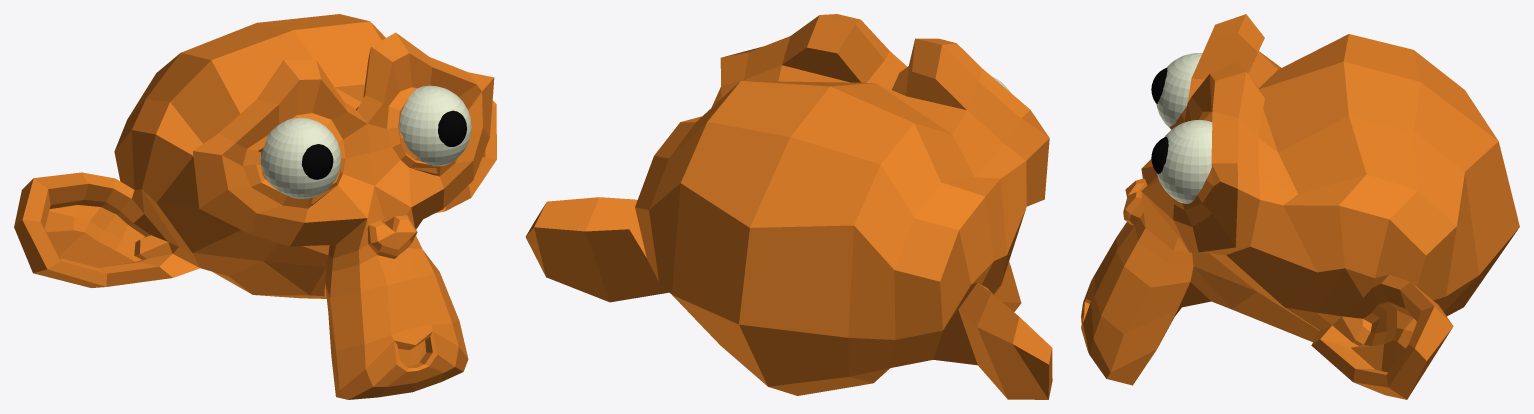
The model's file is suzanne_v01.glb.
3 renders of one model, left to right at view 1: azimuth 30°, elevation 25°; view 2: azimuth 150°, elevation 25°; view 3: azimuth 270°, elevation 25°, orthographic. The views are drawn at different scales.
Parts seen in each view (by area): view 1: Sphere; view 2: Sphere; view 3: Sphere.
Part boxes in pixels (x1,y1,x2,y2): Sphere: (14, 14, 496, 399); Sphere: (525, 14, 1052, 399); Sphere: (1081, 14, 1519, 399).
Size of the model in its own units: 2.73 by 1.64 by 2.06.
